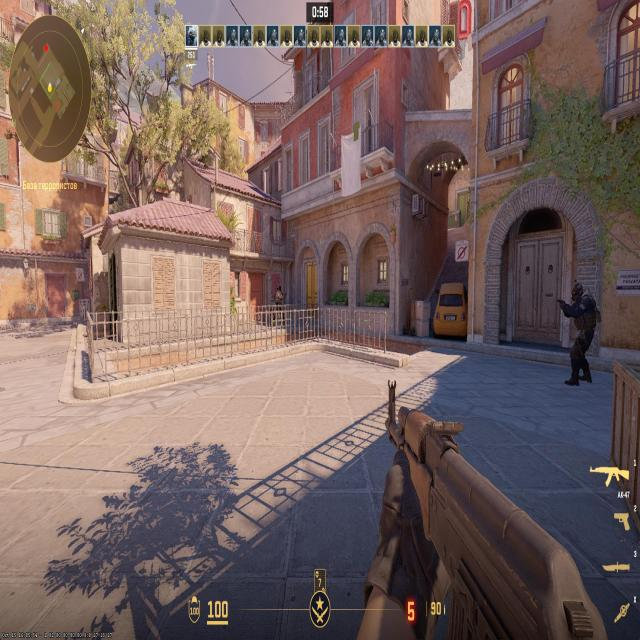CT: (572, 283, 595, 370)
CT_heat: (574, 289, 587, 312)
